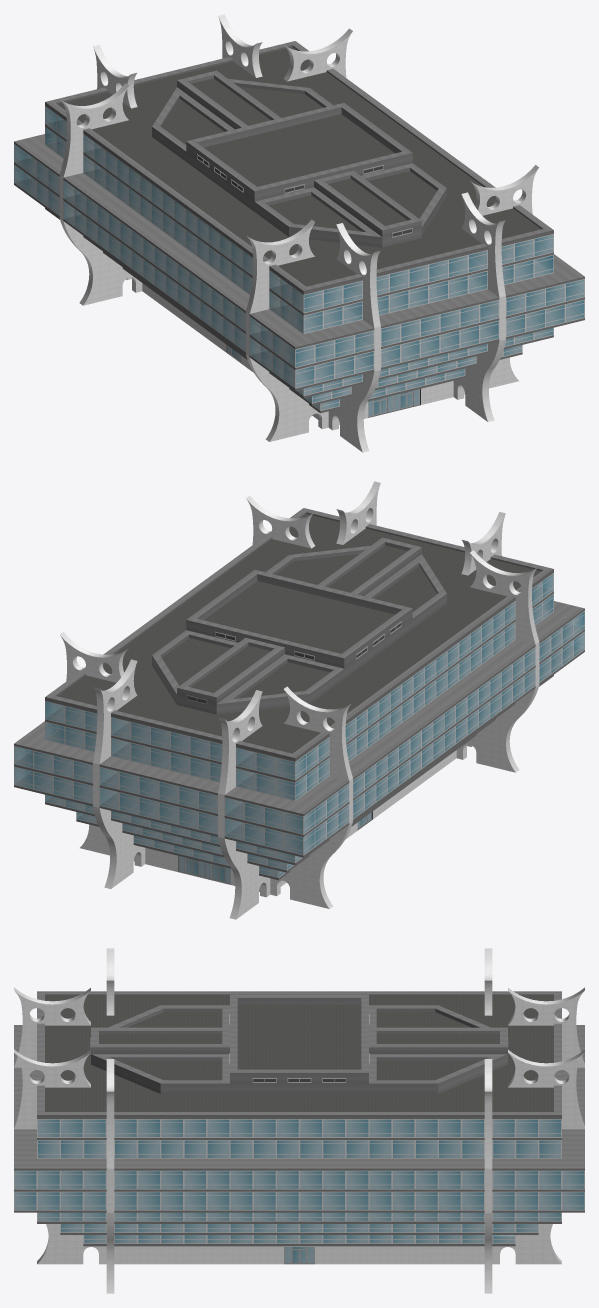
3 views of the same model, one above another, from view 1: azimuth 30°, elevation 25°; view 2: azimuth 150°, elevation 25°; view 3: azimuth 270°, elevation 25° (orthographic).
Parts seen in each view (by area): view 1: Mesh132_Metal_Seamed_0, Mesh132_Steel_Brushed_Stainless_0, Mesh1_Steel_Brushed_Stainless_0, Mesh387_Steel_Brushed_Stainless_0, Mesh462_Steel_Brushed_Stainless_0, Mesh155_Steel_Brushed_Stainless_0, Group3, Group5, Group8, Group7, Mesh313_Steel_Brushed_Stainless_0, Group_11_2 (+7 smaller); view 2: Mesh132_Metal_Seamed_0, Mesh132_Steel_Brushed_Stainless_0, Mesh1_Steel_Brushed_Stainless_0, Mesh387_Steel_Brushed_Stainless_0, Mesh462_Steel_Brushed_Stainless_0, Mesh155_Steel_Brushed_Stainless_0, Group5, Group3, Group6, Group4, Mesh313_Steel_Brushed_Stainless_0, Group_11_1 (+7 smaller); view 3: Mesh132_Metal_Seamed_0, Mesh132_Steel_Brushed_Stainless_0, Mesh1_Steel_Brushed_Stainless_0, Mesh387_Steel_Brushed_Stainless_0, Mesh462_Steel_Brushed_Stainless_0, Mesh155_Steel_Brushed_Stainless_0, Group2, Mesh313_Steel_Brushed_Stainless_0, Group6, Group8, Mesh281_Steel_Brushed_Stainless_0, Mesh220_Steel_Brushed_Stainless_0 (+6 smaller).
Part boxes in pixels (<box>): Mesh132_Metal_Seamed_0: <box>57,47,540,286</box>; Mesh132_Steel_Brushed_Stainless_0: <box>45,41,553,294</box>; Mesh1_Steel_Brushed_Stainless_0: <box>14,134,584,349</box>; Mesh387_Steel_Brushed_Stainless_0: <box>14,178,584,390</box>; Mesh462_Steel_Brushed_Stainless_0: <box>14,158,584,369</box>; Mesh155_Steel_Brushed_Stainless_0: <box>45,120,553,315</box>; Group3: <box>246,219,328,441</box>; Group5: <box>59,83,142,305</box>; Group8: <box>453,192,505,421</box>; Group7: <box>328,223,380,452</box>; Mesh313_Steel_Brushed_Stainless_0: <box>45,208,553,398</box>; Group_11_2: <box>464,165,538,394</box>; Mesh132_Metal_Seamed_0: <box>58,514,541,753</box>; Mesh132_Steel_Brushed_Stainless_0: <box>45,508,553,761</box>; Mesh1_Steel_Brushed_Stainless_0: <box>14,601,584,816</box>; Mesh387_Steel_Brushed_Stainless_0: <box>14,645,584,857</box>; Mesh462_Steel_Brushed_Stainless_0: <box>14,625,584,836</box>; Mesh155_Steel_Brushed_Stainless_0: <box>45,587,553,782</box>; Group5: <box>270,686,352,908</box>; Group3: <box>456,550,539,772</box>; Group6: <box>93,659,145,888</box>; Group4: <box>218,690,270,919</box>; Mesh313_Steel_Brushed_Stainless_0: <box>45,675,553,865</box>; Group_11_1: <box>60,632,134,861</box>; Mesh132_Metal_Seamed_0: <box>45,996,553,1111</box>; Mesh132_Steel_Brushed_Stainless_0: <box>37,991,561,1118</box>; Mesh1_Steel_Brushed_Stainless_0: <box>14,1025,584,1170</box>; Mesh387_Steel_Brushed_Stainless_0: <box>14,1192,584,1212</box>; Mesh462_Steel_Brushed_Stainless_0: <box>14,1171,584,1191</box>; Mesh155_Steel_Brushed_Stainless_0: <box>37,1120,561,1139</box>; Group2: <box>114,1246,484,1264</box>; Mesh313_Steel_Brushed_Stainless_0: <box>37,1213,561,1223</box>; Group6: <box>492,1049,584,1264</box>; Group8: <box>14,1049,106,1264</box>; Mesh281_Steel_Brushed_Stainless_0: <box>60,1224,538,1234</box>; Mesh220_Steel_Brushed_Stainless_0: <box>83,1235,515,1246</box>.
Size of the model in its own units: 44 by 30.3 by 74.
Materials: 8 (6 with a texture image).
